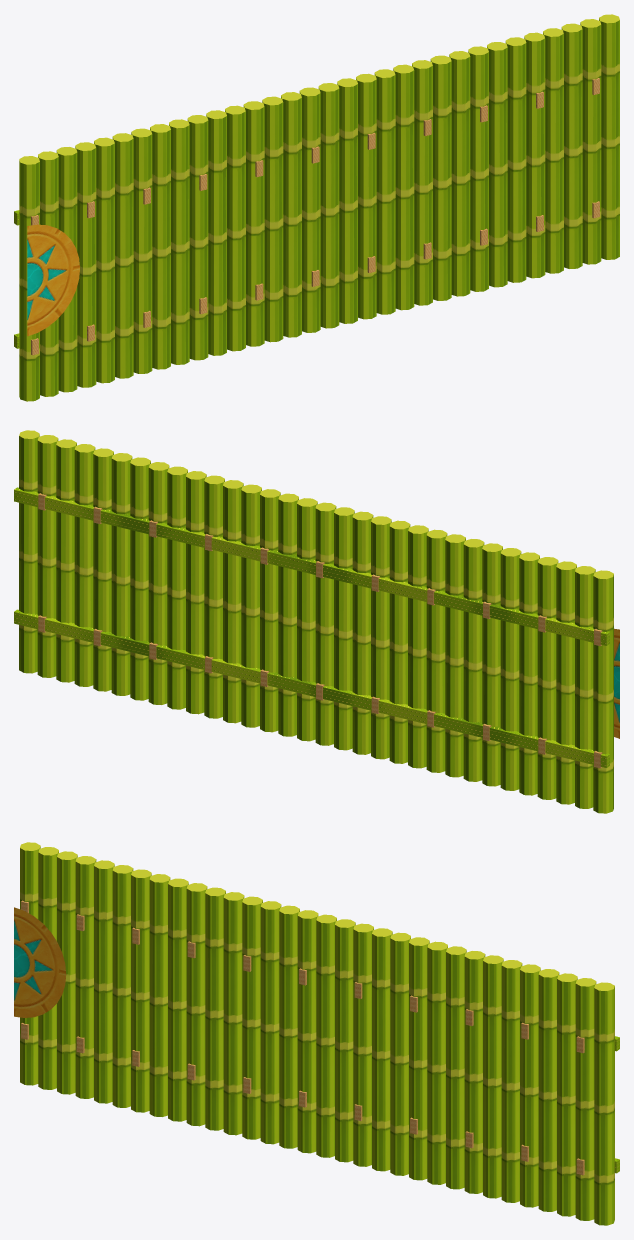
File: gate-30-north-gate-right-C8e6Gprm.glb
3 renders of one model, top to bottom at view 1: azimuth 30°, elevation 25°; view 2: azimuth 150°, elevation 25°; view 3: azimuth 330°, elevation 25°, orthographic.
Parts seen in each view (by area): view 1: HI_Gate_30_north-gate_right; view 2: HI_Gate_30_north-gate_right; view 3: HI_Gate_30_north-gate_right.
Boxes of the visible parts, x1=… form: HI_Gate_30_north-gate_right: x1=14, y1=14, x2=619, y2=401; HI_Gate_30_north-gate_right: x1=14, y1=430, x2=619, y2=813; HI_Gate_30_north-gate_right: x1=14, y1=842, x2=619, y2=1225.
Bounding box in the file's own units: 6.35 × 2.4 × 0.25.
Materials: 2 (2 with a texture image).
